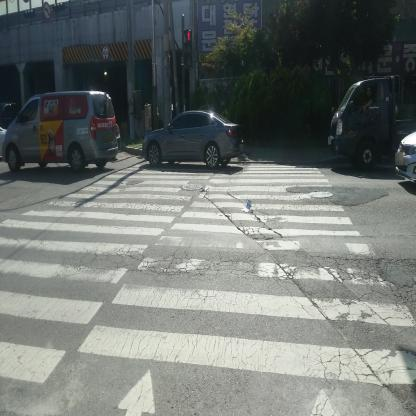Red: (183, 29, 193, 66)
